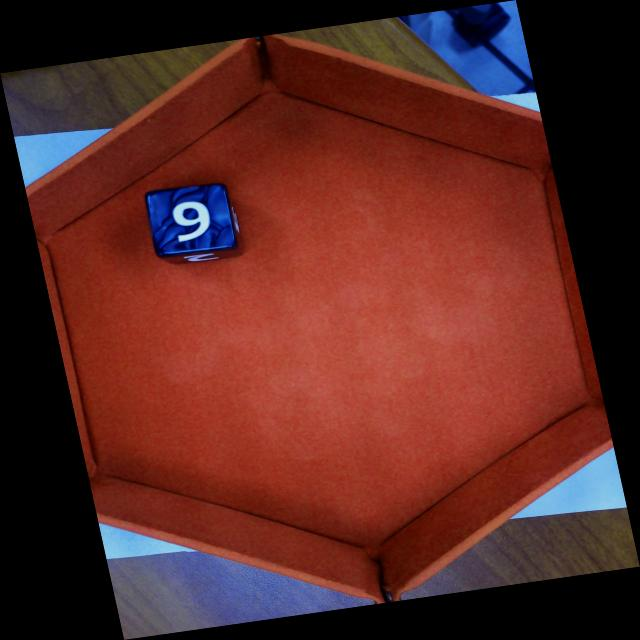dice: (143, 181, 240, 259)
